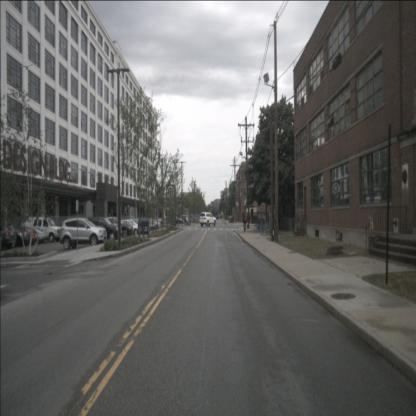human-pedestrian-adult: (243, 210, 246, 232)
vehicle-car: (59, 217, 107, 250), (84, 217, 119, 241), (32, 216, 62, 243), (100, 217, 133, 238), (0, 223, 17, 250), (14, 226, 38, 245), (6, 228, 29, 246), (21, 228, 46, 244), (119, 219, 142, 235), (199, 212, 216, 227), (140, 220, 156, 232), (147, 218, 161, 228), (144, 219, 158, 228), (169, 216, 183, 224), (180, 214, 190, 223)
